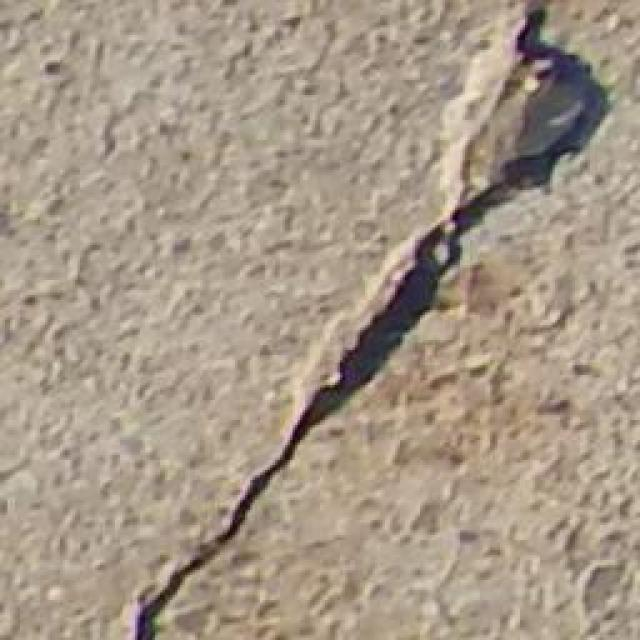concrete-crack: (136, 3, 621, 640)
